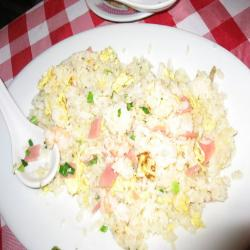rice: (36, 62, 231, 237)
